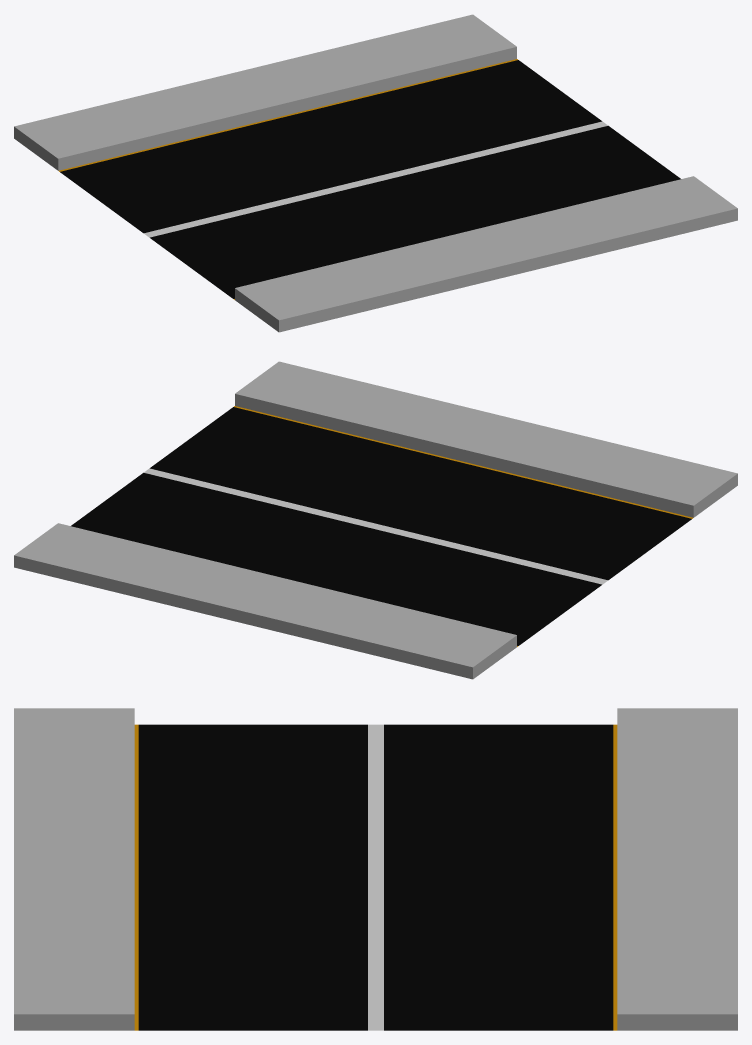
The model's file is Straight Road.001_Material.007.glb.
3 renders of one model, top to bottom at view 1: azimuth 30°, elevation 25°; view 2: azimuth 150°, elevation 25°; view 3: azimuth 270°, elevation 25°, orthographic. The views are drawn at different scales.
Parts seen in each view (by area): view 1: Straight Road.001_Material.007_0; view 2: Straight Road.001_Material.007_0; view 3: Straight Road.001_Material.007_0.
Part boxes in pixels (x1,y1,x2,y2): Straight Road.001_Material.007_0: (14, 14, 737, 332); Straight Road.001_Material.007_0: (14, 361, 737, 679); Straight Road.001_Material.007_0: (14, 708, 737, 1030).
Bounding box in the file's own units: 2 × 0.0504 × 2.
1 material, 1 textured.
